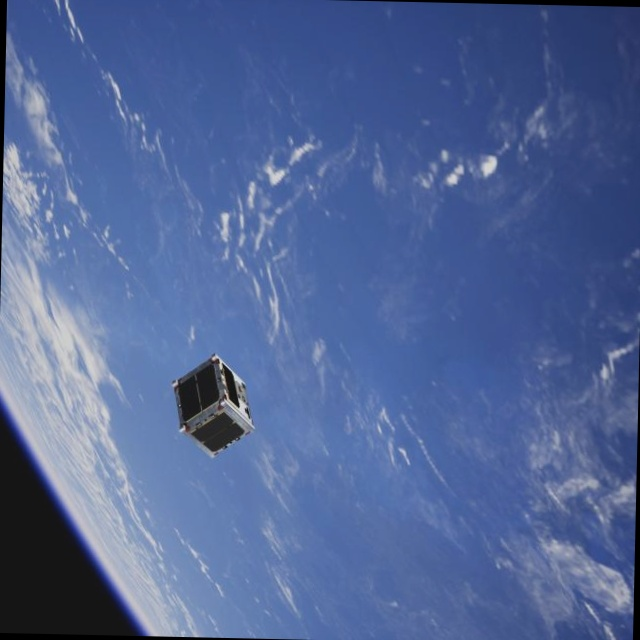medium_debris: (164, 352, 256, 460)
